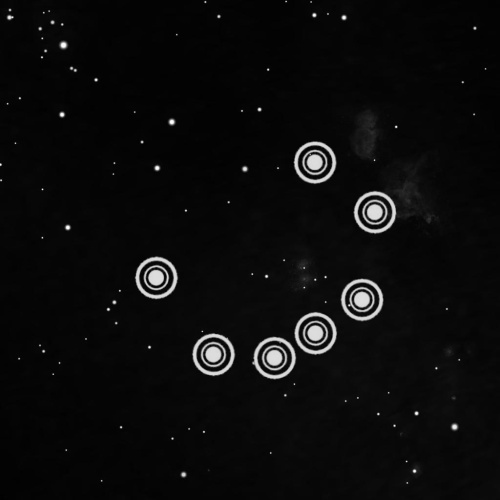corona_borealis: (126, 127, 402, 383)
